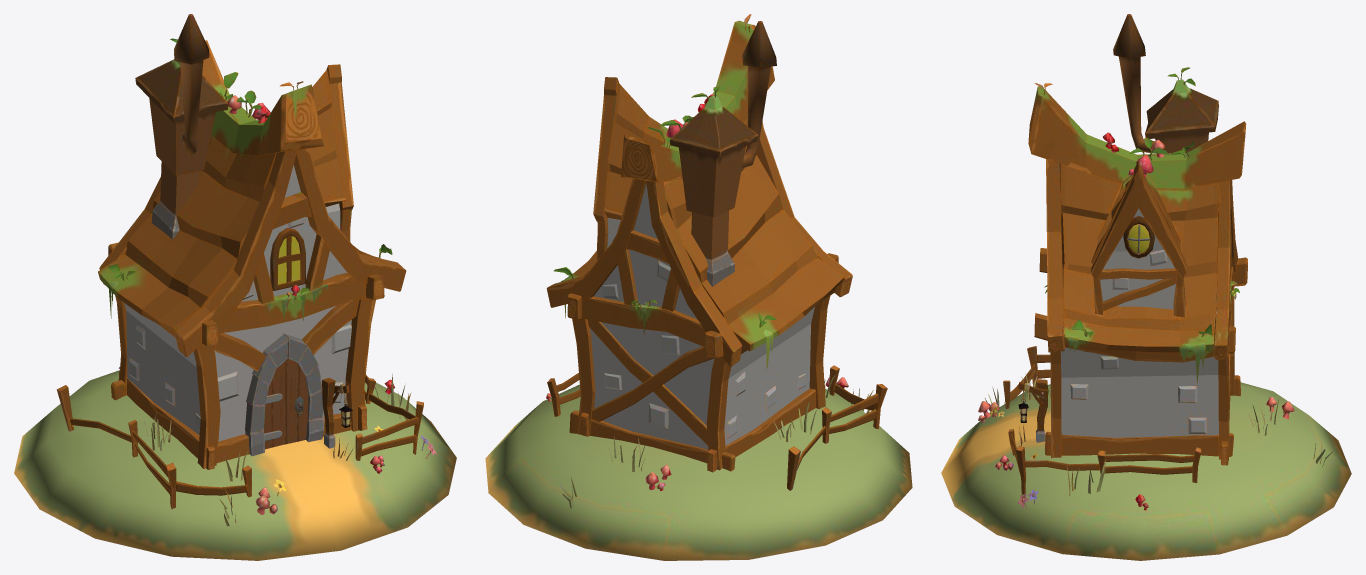
The model's file is stylcottage.glb.
3 renders of one model, left to right at view 1: azimuth 30°, elevation 25°; view 2: azimuth 150°, elevation 25°; view 3: azimuth 270°, elevation 25°, orthographic. The views are drawn at different scales.
Parts seen in each view (by area): view 1: Stylized_cottage_1; view 2: Stylized_cottage_1; view 3: Stylized_cottage_1.
Part boxes in pixels (x1,y1,x2,y2): Stylized_cottage_1: [14, 14, 456, 560]; Stylized_cottage_1: [485, 14, 912, 560]; Stylized_cottage_1: [941, 14, 1351, 560].
Size of the model in its own units: 89.49 by 105 by 89.49.
1 material, 1 textured.
